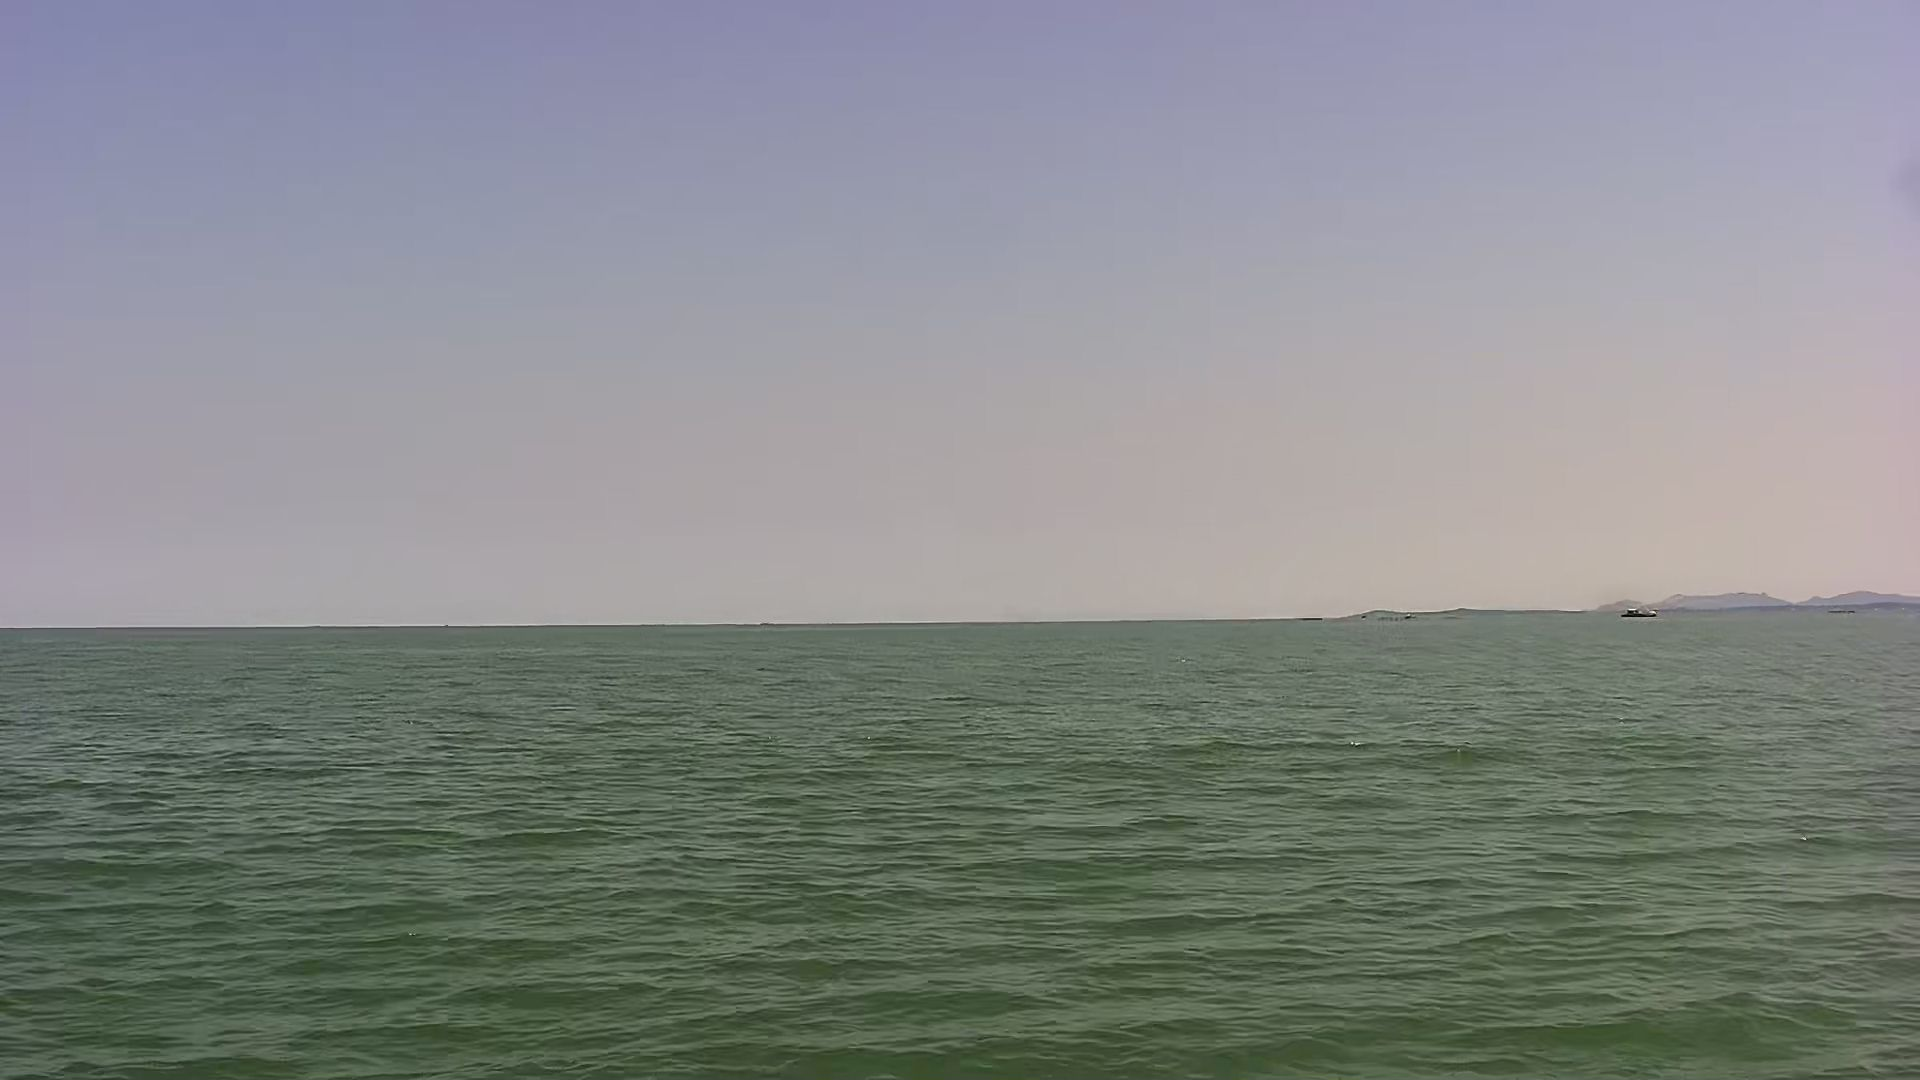ship: (1617, 603, 1668, 625)
